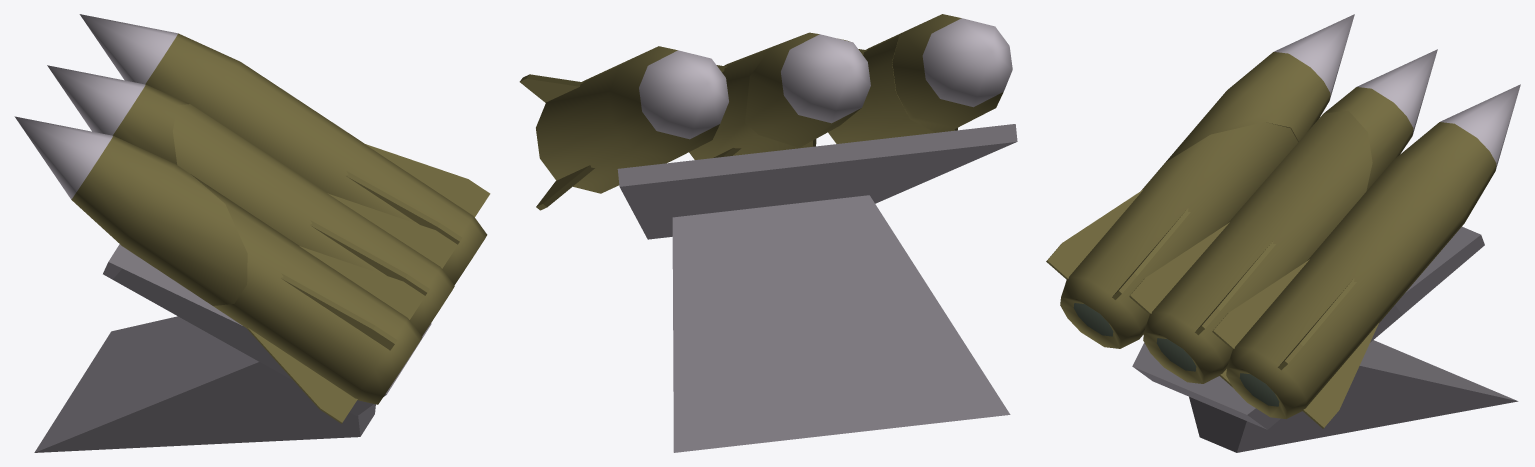
The model's file is ProSystem 2_cell.fbx.
3 views of the same model, side by side, from view 1: azimuth 30°, elevation 25°; view 2: azimuth 150°, elevation 25°; view 3: azimuth 270°, elevation 25° (orthographic). The views are drawn at different scales.
Parts seen in each view (by area): view 1: PRO System_cell.002, PRO System_cell.006, PRO System_cell.005, PRO System_cell.001, PRO System_cell.003, PRO System_cell.004; view 2: PRO System_cell.006, PRO System_cell.004, PRO System_cell.002, PRO System_cell.005, PRO System_cell.003, PRO System_cell.001; view 3: PRO System_cell.002, PRO System_cell.005, PRO System_cell.001, PRO System_cell.006, PRO System_cell.003, PRO System_cell.004.
Boxes of the visible parts, bbox=[...] form: PRO System_cell.002: bbox=[79, 14, 490, 284]; PRO System_cell.006: bbox=[34, 316, 375, 452]; PRO System_cell.005: bbox=[113, 104, 457, 416]; PRO System_cell.001: bbox=[191, 174, 425, 423]; PRO System_cell.003: bbox=[14, 116, 247, 305]; PRO System_cell.004: bbox=[47, 65, 189, 279]; PRO System_cell.006: bbox=[672, 195, 1010, 452]; PRO System_cell.004: bbox=[617, 32, 1017, 206]; PRO System_cell.002: bbox=[519, 46, 728, 210]; PRO System_cell.005: bbox=[630, 35, 1009, 239]; PRO System_cell.003: bbox=[892, 14, 1012, 132]; PRO System_cell.001: bbox=[828, 22, 957, 143]; PRO System_cell.002: bbox=[1212, 84, 1520, 428]; PRO System_cell.005: bbox=[1129, 110, 1402, 429]; PRO System_cell.001: bbox=[1046, 122, 1298, 348]; PRO System_cell.006: bbox=[1189, 340, 1518, 452]; PRO System_cell.003: bbox=[1165, 14, 1354, 162]; PRO System_cell.004: bbox=[1324, 49, 1484, 314].
Size of the model in its own units: 172 by 121 by 172.
